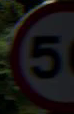Speed limit: (9, 6, 68, 103)
